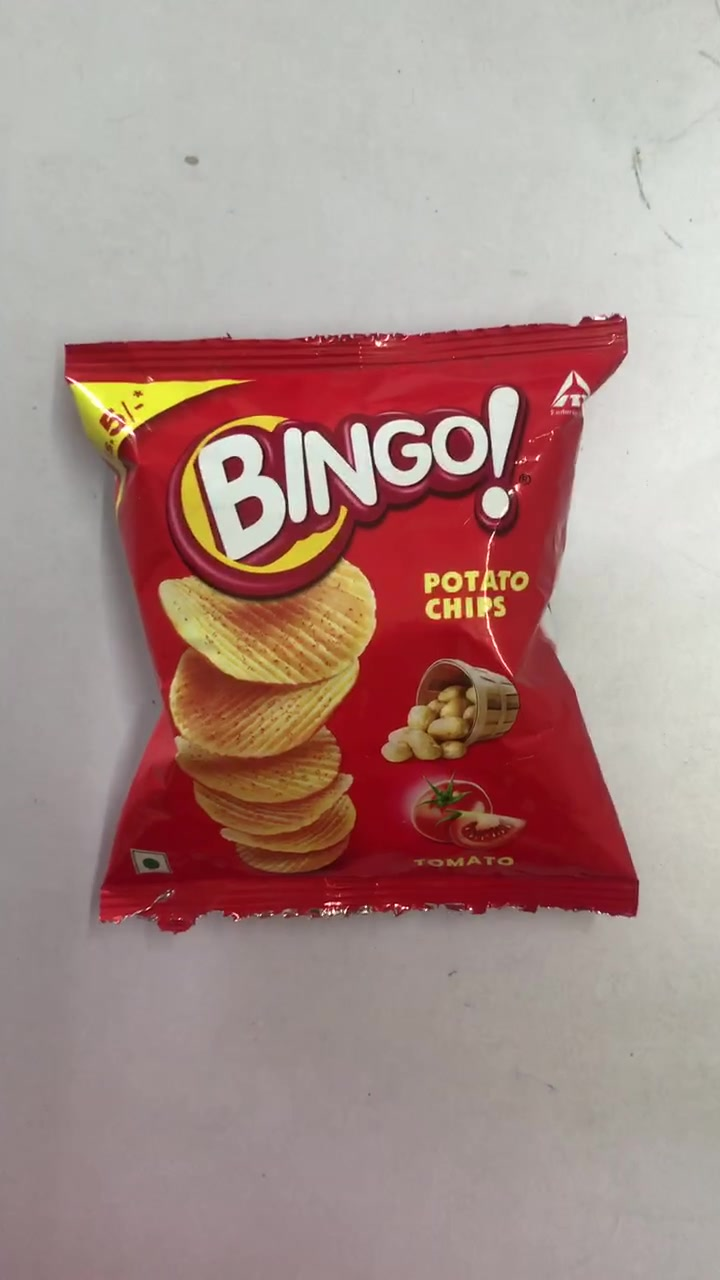Bingo: (67, 334, 637, 909)
